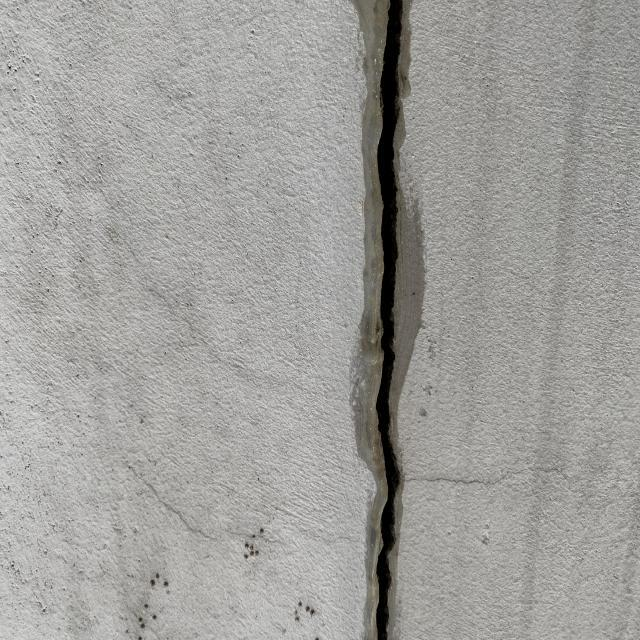SurfaceCrack: (320, 1, 453, 640)
